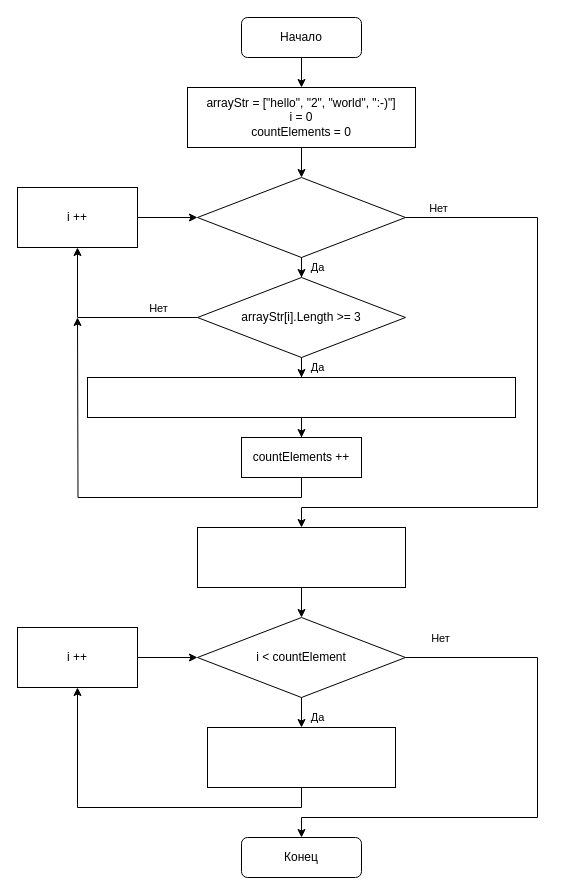
Image size: 563x895. Some labels were removed from this diagram. The shapes that lost their labels are listed below. From the top down, each one's centre as x and y in pixels, then its label:
the point at 301,217: i < arrayStr.Length
the point at 301,397: (arrayStr[i], arrayStr[countElements]) = (arrayStr[countElements], arrayStr[i])
the point at 301,557: i = 0 arrayResalt = new int [countElement]
the point at 301,757: arrayResalt[i] = arrayStr[i]
